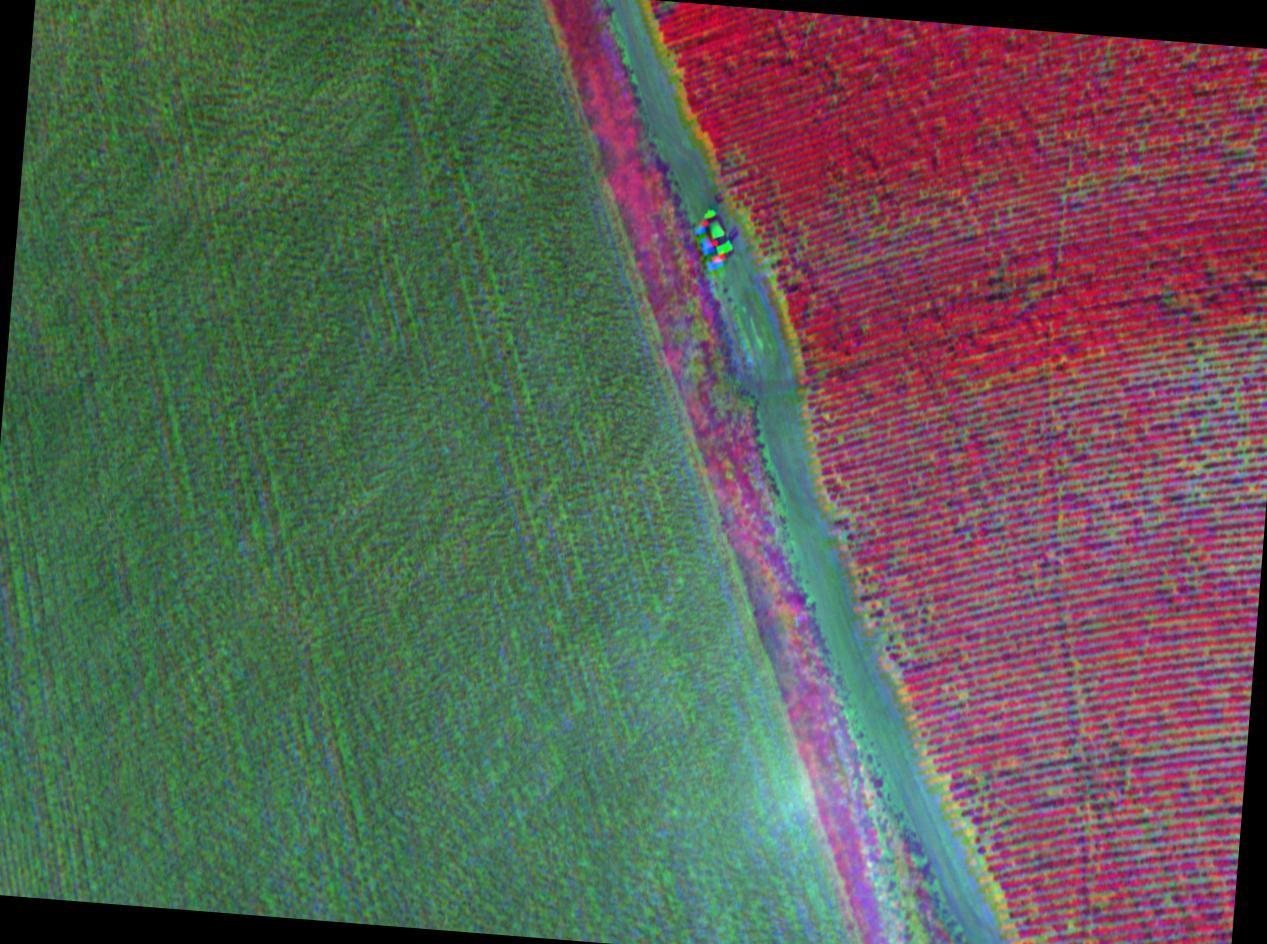dc: (1018, 440, 1141, 541), (1168, 333, 1267, 458), (833, 463, 923, 566), (948, 765, 1020, 867), (873, 600, 959, 682)
